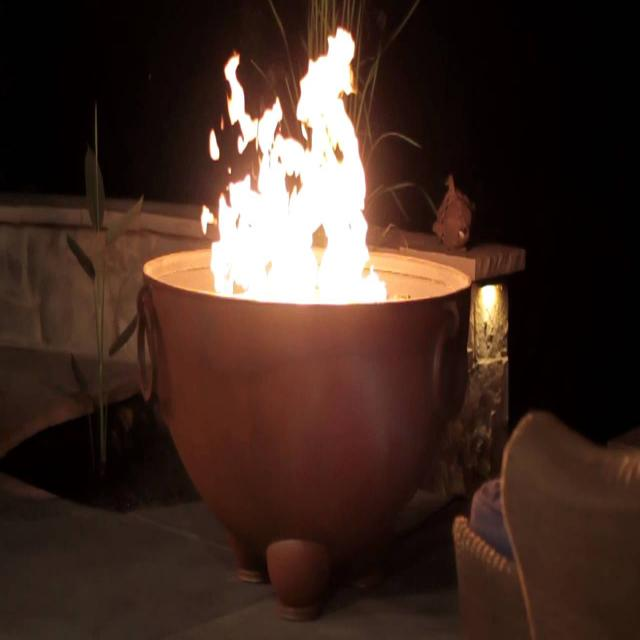fire: (199, 27, 387, 305)
